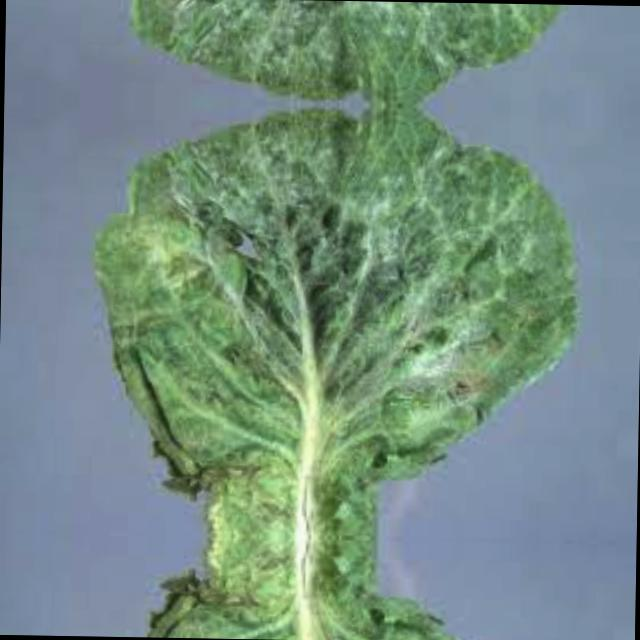Downy_mildew: (124, 119, 514, 501), (131, 0, 515, 86), (121, 571, 505, 640)
